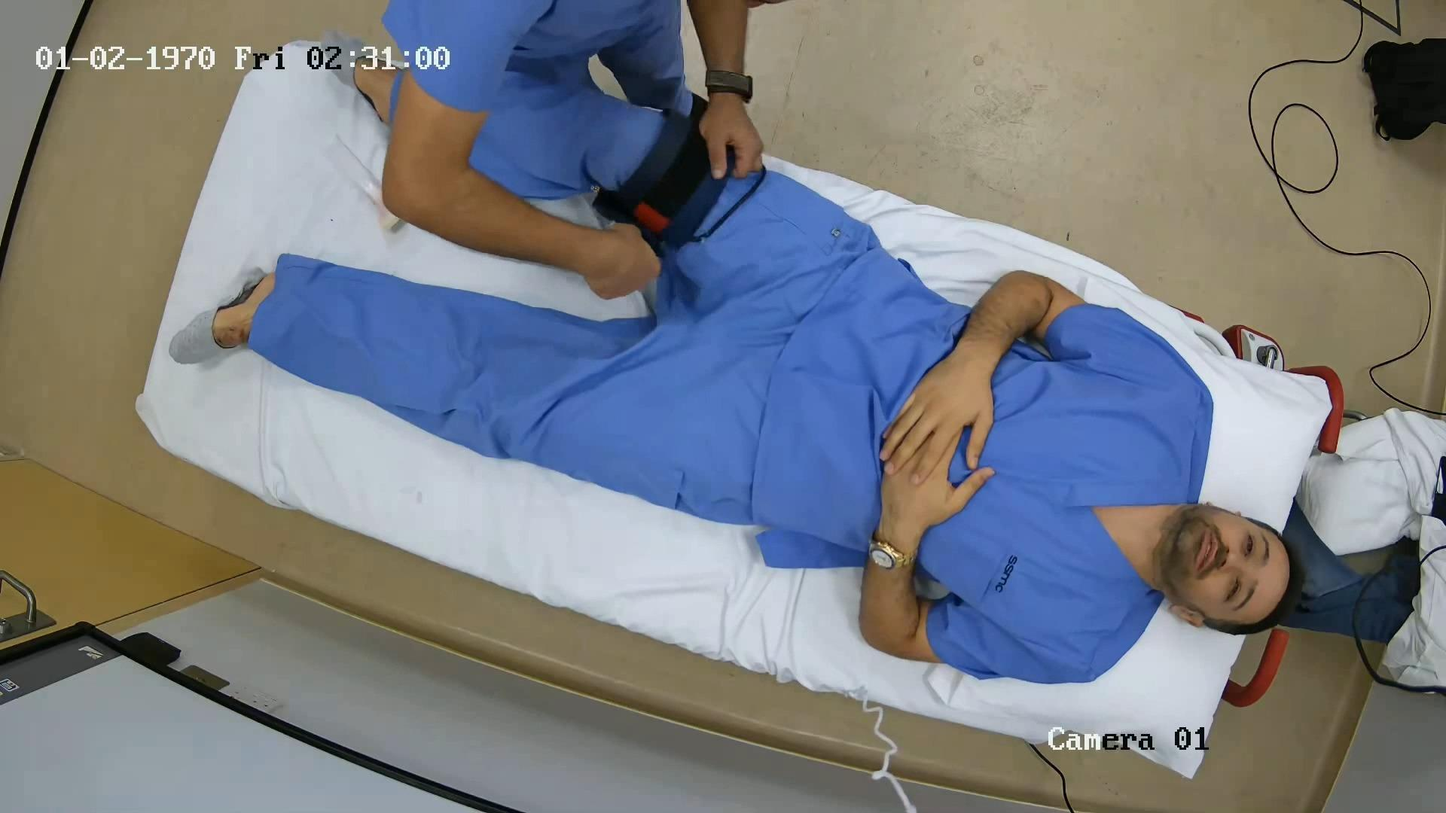bed: (134, 44, 1339, 788)
patient: (249, 111, 1298, 683)
prepstick: (327, 142, 407, 232)
tourniquet: (595, 102, 725, 255)
